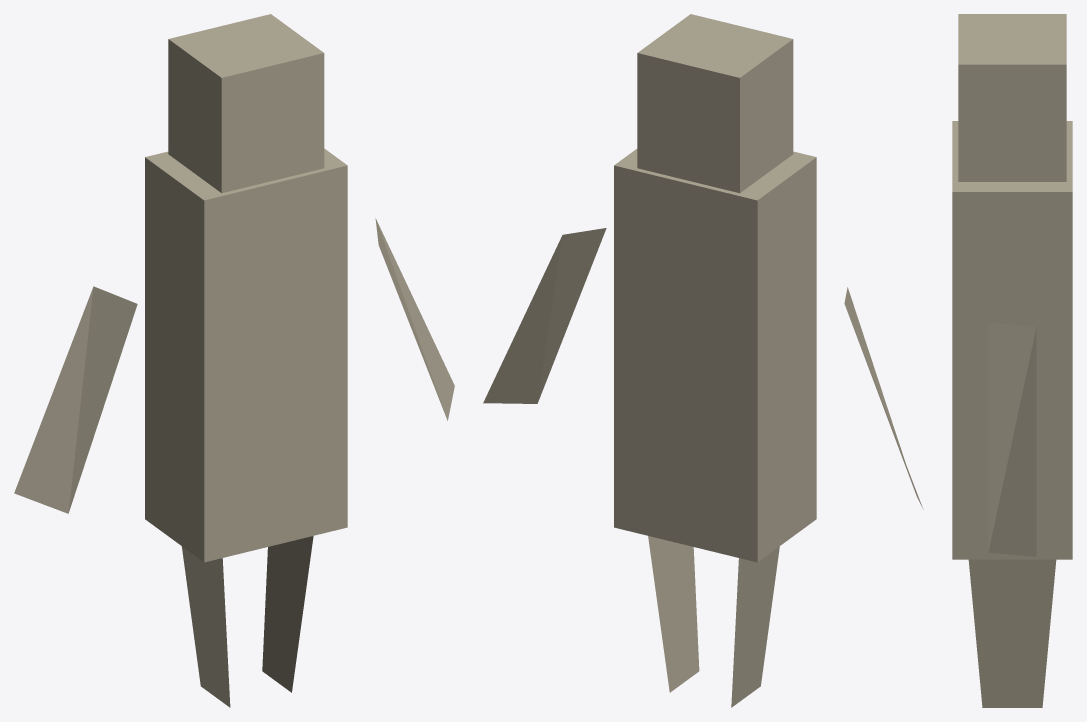
The model's file is watcher_mannequin_tall.obj.
3 renders of one model, left to right at view 1: azimuth 30°, elevation 25°; view 2: azimuth 150°, elevation 25°; view 3: azimuth 270°, elevation 25°, orthographic.
Visible parts, largest first — view 1: watcher_mannequin_tall; view 2: watcher_mannequin_tall; view 3: watcher_mannequin_tall.
Part boxes in pixels (x1=…): watcher_mannequin_tall: x1=14, y1=14, x2=454, y2=707; watcher_mannequin_tall: x1=483, y1=14, x2=923, y2=707; watcher_mannequin_tall: x1=952, y1=14, x2=1072, y2=707.
Size of the model in its own units: 1.72 by 2.4 by 0.4.
